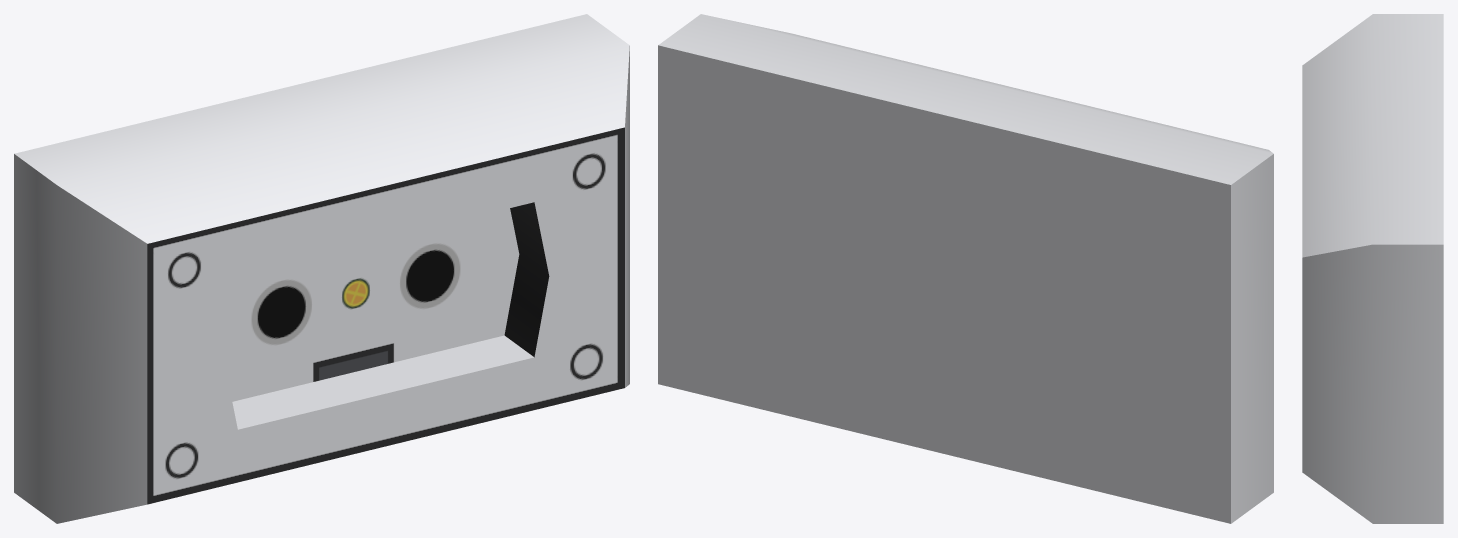
3 views of the same model, side by side, from view 1: azimuth 30°, elevation 25°; view 2: azimuth 150°, elevation 25°; view 3: azimuth 270°, elevation 25° (orthographic). The views are drawn at different scales.
Visible parts, largest first — view 1: Socket_2; view 2: Socket_2; view 3: Socket_2.
Boxes of the visible parts, x1,y1,x2,y2 form: Socket_2: [14, 14, 629, 523]; Socket_2: [658, 14, 1273, 523]; Socket_2: [1302, 14, 1443, 523].
Size of the model in its own units: 464 by 262 by 120.
1 material, 1 textured.
